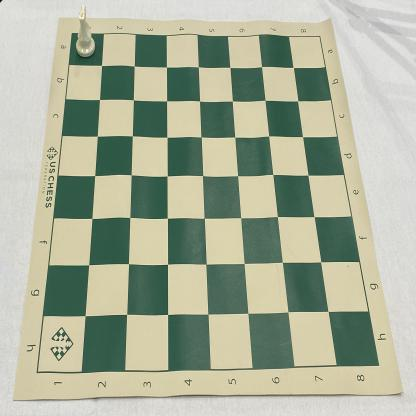white-knight: (76, 2, 97, 59)
